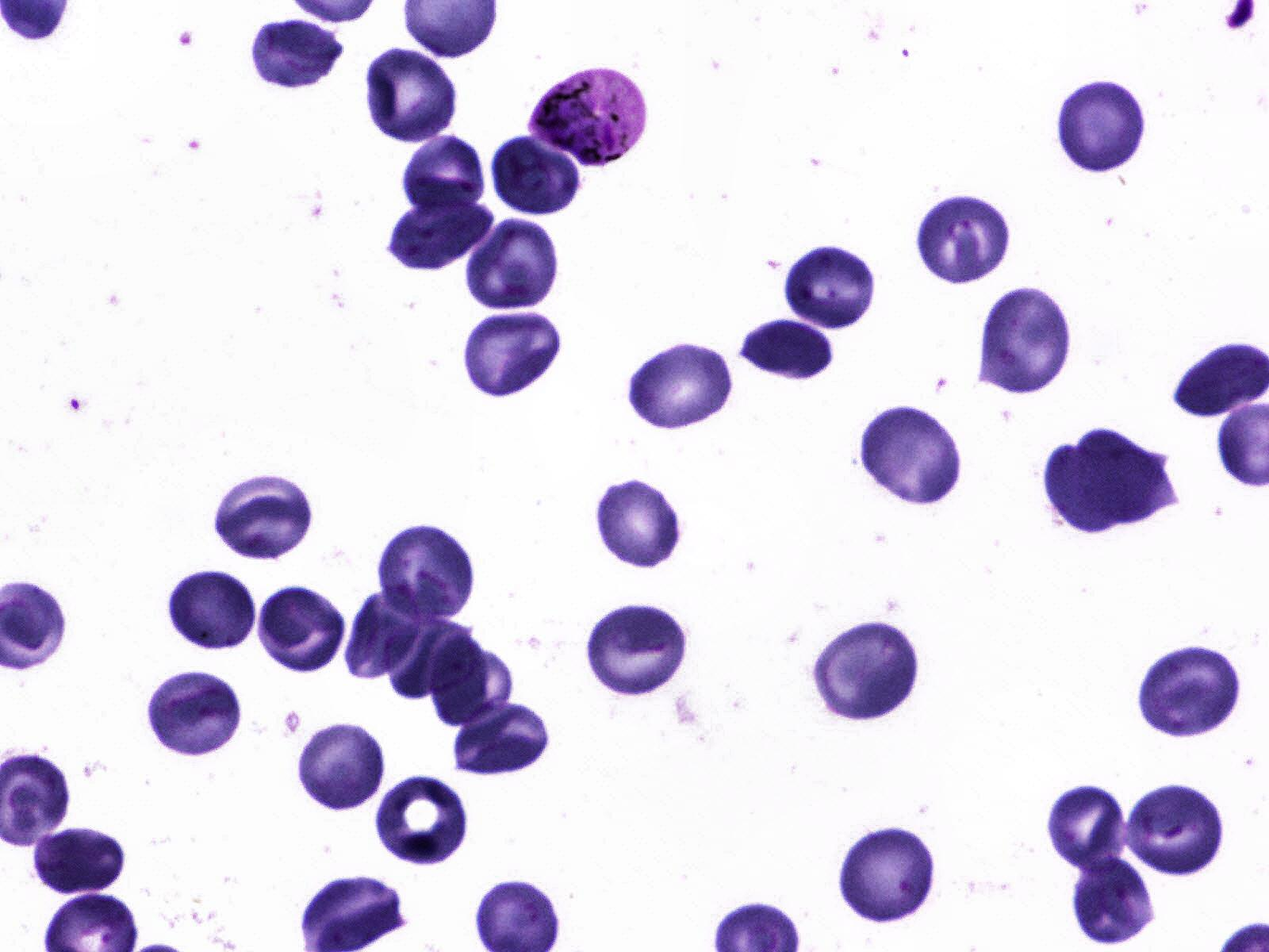Infected: (525, 63, 654, 173)
Uninfected: (809, 615, 924, 721), (1067, 429, 1175, 526), (834, 827, 941, 921), (862, 409, 964, 506), (211, 472, 316, 564), (777, 244, 880, 336), (1121, 783, 1225, 874), (627, 345, 739, 429), (979, 287, 1068, 392), (380, 527, 478, 622), (592, 474, 684, 574), (588, 604, 689, 695), (1056, 83, 1150, 180), (913, 193, 1010, 286), (358, 46, 457, 137), (1044, 440, 1142, 530), (1068, 854, 1158, 949), (148, 670, 243, 758), (1137, 654, 1241, 734), (374, 774, 464, 866), (163, 568, 259, 654), (383, 618, 479, 702), (341, 583, 420, 685), (464, 220, 563, 301), (253, 585, 339, 678), (471, 308, 569, 389), (383, 196, 496, 266), (1174, 339, 1269, 421), (295, 723, 383, 809), (29, 823, 125, 900), (1045, 782, 1129, 869), (247, 17, 347, 90), (446, 704, 554, 770), (734, 317, 838, 383), (433, 642, 516, 719), (493, 137, 580, 209), (404, 143, 492, 213)
